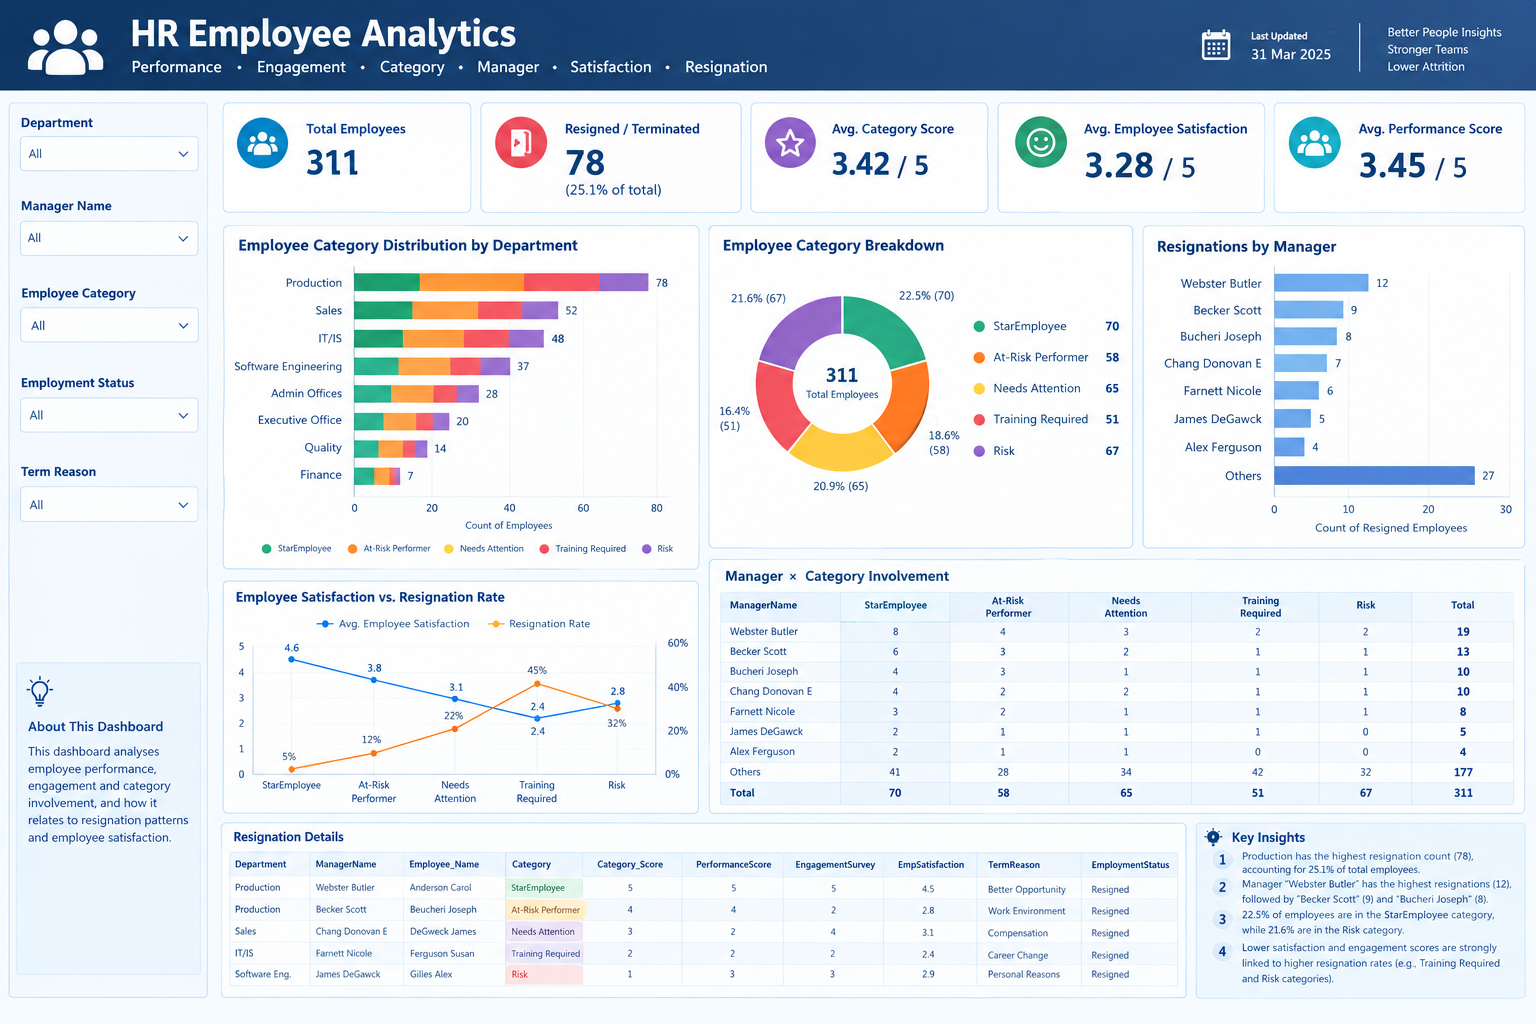

What the dashboard file says about the page in this screenshot:
{"tool":"powerbi","page":{"name":"  HR Employee Analytics ","canvas":[1280,720],"ordinal":0},"visuals":[{"type":"shape","box":[210,125,1058.3,90],"z":0},{"type":"shape","box":[0,0,1280,112],"z":1000},{"type":"textbox","box":[0,0,1280.3,78.3],"z":2000},{"type":"textbox","box":[0,67.3,1092,45.2],"z":3000},{"type":"shape","box":[0,123.8,200,583.8],"z":4000},{"type":"slicer","fields":{"Values":["hr_project departmentstatus.Department"]},"box":[13.8,138.8,172.5,93.8],"z":5000},{"type":"slicer","fields":{"Values":["hr_project category.Category"]},"box":[13.8,373.8,171.2,93.8],"z":6000},{"type":"slicer","fields":{"Values":["hr_project category.EmploymentStatus"]},"box":[15,493.8,172.5,93.8],"z":7000},{"type":"slicer","fields":{"Values":["hr_project mangerstatuswithoutdept.ManagerName"]},"box":[16.2,250,171.2,95],"z":8000},{"type":"clusteredBarChart","title":"Employ  Distribution  by category ","fields":{"Category":["hr_project category.Category","hr_project category.Department"],"Y":["CountNonNull(employedata.EmpID)"]},"box":[209.9,225.6,450,223.2],"z":9000},{"type":"barChart","title":"Total Employee by Department","fields":{"Category":["hr_project departmentstatus.Department"],"Y":["Sum(hr_project departmentstatus.Total_employee_under_manager)"]},"box":[674.4,225.6,593.6,223.2],"z":10000},{"type":"cardVisual","fields":{"Data":["CountNonNull(employedata.EmpID)"]},"box":[211.7,125.7,140,91.7],"z":11000},{"type":"cardVisual","fields":{"Data":["Sum(hr_project mangerstatuswithoutdept.Resigned_or_Terminated_Count)"]},"box":[651.7,125.7,175,91.7],"z":12000},{"type":"cardVisual","fields":{"Data":["hr_project mangerstatuswithoutdept.resignation_rate"]},"box":[826.7,124.9,161.7,93.3],"z":13000},{"type":"cardVisual","fields":{"Data":["Avg(hr_project mangerstatuswithoutdept.Avg_Category_score)"]},"box":[971.7,127.4,181.7,88.3],"z":14000},{"type":"cardVisual","fields":{"Data":["Avg(hr_project mangerstatuswithoutdept.Avg_EmpSatisfaction)"]},"box":[1108.3,138.3,171.7,93.3],"z":15000},{"type":"cardVisual","fields":{"Data":["CountNonNull(hr_project mangerstatuswithoutdept.ManagerID)"]},"box":[351.7,125.7,141.7,91.7],"z":16000},{"type":"cardVisual","fields":{"Data":["employedata.EmployOnManger"]},"box":[481.7,127.4,193.3,88.3],"z":17000},{"type":"clusteredColumnChart","title":"Employ  Distribution  by category ","fields":{"Y":["Avg(hr_project mangerstatuswithoutdept.Avg_EmpSatisfaction)","Avg(hr_project mangerstatuswithoutdept.Avg_Category_score)"],"Category":["employedata.Department"]},"box":[211.4,460,517.1,240],"z":18000},{"type":"shape","box":[738.6,458.6,530,241.4],"z":19000},{"type":"tableEx","title":"Employ  Distribution  by category ","fields":{"Values":["hr_project departmentstatus.Department","hr_project departmentstatus.Total_employee_under_manager","hr_project departmentstatus.Resigned_or_Terminated_Count","hr_project departmentstatus.Avg Resignation Rate"]},"box":[768.6,460,495.7,232.9],"z":20000}]}

Visuals, with their boxes on the page's 1280x720 design canvas (x1, y1, x2, y2). These are canvas units, not pixel positions in the 1536x1024 screenshot, which may show the page scaled, cropped or inside an application window:
shape: pyautogui.locateOnScreen(210, 125, 1268, 215)
shape: pyautogui.locateOnScreen(0, 0, 1280, 112)
textbox: pyautogui.locateOnScreen(0, 0, 1280, 78)
textbox: pyautogui.locateOnScreen(0, 67, 1092, 112)
shape: pyautogui.locateOnScreen(0, 124, 200, 708)
slicer - hr_project departmentstatus.Department: pyautogui.locateOnScreen(14, 139, 186, 233)
slicer - hr_project category.Category: pyautogui.locateOnScreen(14, 374, 185, 468)
slicer - hr_project category.EmploymentStatus: pyautogui.locateOnScreen(15, 494, 188, 588)
slicer - hr_project mangerstatuswithoutdept.ManagerName: pyautogui.locateOnScreen(16, 250, 187, 345)
"Employ  Distribution  by category " clusteredBarChart: pyautogui.locateOnScreen(210, 226, 660, 449)
"Total Employee by Department" barChart: pyautogui.locateOnScreen(674, 226, 1268, 449)
cardVisual - CountNonNull(employedata.EmpID): pyautogui.locateOnScreen(212, 126, 352, 217)
cardVisual - Sum(hr_project mangerstatuswithoutdept.Resigned_or_Terminated_Count): pyautogui.locateOnScreen(652, 126, 827, 217)
cardVisual - hr_project mangerstatuswithoutdept.resignation_rate: pyautogui.locateOnScreen(827, 125, 988, 218)
cardVisual - Avg(hr_project mangerstatuswithoutdept.Avg_Category_score): pyautogui.locateOnScreen(972, 127, 1153, 216)
cardVisual - Avg(hr_project mangerstatuswithoutdept.Avg_EmpSatisfaction): pyautogui.locateOnScreen(1108, 138, 1280, 232)
cardVisual - CountNonNull(hr_project mangerstatuswithoutdept.ManagerID): pyautogui.locateOnScreen(352, 126, 493, 217)
cardVisual - employedata.EmployOnManger: pyautogui.locateOnScreen(482, 127, 675, 216)
"Employ  Distribution  by category " clusteredColumnChart: pyautogui.locateOnScreen(211, 460, 728, 700)
shape: pyautogui.locateOnScreen(739, 459, 1269, 700)
"Employ  Distribution  by category " tableEx: pyautogui.locateOnScreen(769, 460, 1264, 693)
